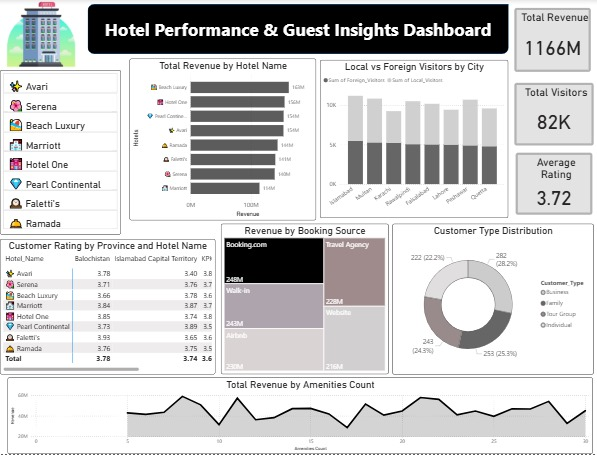

What the dashboard file says about the page in this screenshot:
{"tool":"powerbi","page":{"name":"Page 1","canvas":[1480,1120],"ordinal":0},"visuals":[{"type":"advancedSlicerVisual","fields":{"Values":["Pakistan_Tourism_Hotels.Hotel_Name"]},"box":[0,176.1,297.8,404.3],"z":0},{"type":"card","title":"Total Revenue","fields":{"Values":["Sum(Pakistan_Tourism_Hotels.Total_Revenue)"]},"box":[1265.4,23.1,188.5,157.7],"z":1000},{"type":"card","title":"Average Rating","fields":{"Values":["Avg(Pakistan_Tourism_Hotels.Customer_Rating)"]},"box":[1269.1,377.8,188.9,153.1],"z":2000},{"type":"card","title":"Total Visitors","fields":{"Values":["Pakistan_Tourism_Hotels.Visitors"]},"box":[1265.4,204.9,195.1,154.3],"z":3000},{"type":"shape","box":[215.2,12.1,1036.4,122.7],"z":4000},{"type":"image","box":[0,0,201.5,177.3],"z":5000},{"type":"clusteredBarChart","title":"Total Revenue by Hotel Name","fields":{"Y":["Sum(Pakistan_Tourism_Hotels.Total_Revenue)"],"Category":["Pakistan_Tourism_Hotels.Hotel_Name"]},"box":[319.8,148.1,459.3,397.5],"z":6000},{"type":"columnChart","title":"Local vs Foreign Visitors by City","fields":{"Category":["Pakistan_Tourism_Hotels.City"],"Y":["Sum(Pakistan_Tourism_Hotels.Foreign_Visitors)","Sum(Pakistan_Tourism_Hotels.Local_Visitors)"]},"box":[788.9,150.6,463,388.9],"z":7000},{"type":"donutChart","title":"Customer Type Distribution","fields":{"Category":["Pakistan_Tourism_Hotels.Customer_Type"],"Y":["CountNonNull(Pakistan_Tourism_Hotels.Hotel_ID)"]},"box":[965,554,495,371],"z":8000},{"type":"treemap","title":"Revenue by Booking Source","fields":{"Group":["Pakistan_Tourism_Hotels.Booking_Source"],"Values":["Sum(Pakistan_Tourism_Hotels.Total_Revenue)"]},"box":[543.2,554.3,412.3,370.4],"z":9000},{"type":"pivotTable","title":"Customer Rating by Province and Hotel Name","fields":{"Rows":["Pakistan_Tourism_Hotels.Hotel_Name"],"Columns":["Pakistan_Tourism_Hotels.Province"],"Values":["Avg(Pakistan_Tourism_Hotels.Customer_Rating)"]},"box":[0,591.4,529.6,333.3],"z":10000},{"type":"lineChart","title":"Total Revenue by Amenities Count","fields":{"Category":["Pakistan_Tourism_Hotels.Amenities_Count"],"Y":["Sum(Pakistan_Tourism_Hotels.Total_Revenue)"]},"box":[20,932,1440,188],"z":11000}]}

Visuals, with their boxes in screenshot pixels (x1, y1, x2, y2), scaled from the page's 1480x1120 canvas onto the 597x455 screenshot:
advancedSlicerVisual - Pakistan_Tourism_Hotels.Hotel_Name: l=0, t=72, r=120, b=236
"Total Revenue" card: l=510, t=9, r=586, b=73
"Average Rating" card: l=512, t=153, r=588, b=216
"Total Visitors" card: l=510, t=83, r=589, b=146
shape: l=87, t=5, r=505, b=55
image: l=0, t=0, r=81, b=72
"Total Revenue by Hotel Name" clusteredBarChart: l=129, t=60, r=314, b=222
"Local vs Foreign Visitors by City" columnChart: l=318, t=61, r=505, b=219
"Customer Type Distribution" donutChart: l=389, t=225, r=589, b=376
"Revenue by Booking Source" treemap: l=219, t=225, r=385, b=376
"Customer Rating by Province and Hotel Name" pivotTable: l=0, t=240, r=214, b=376
"Total Revenue by Amenities Count" lineChart: l=8, t=379, r=589, b=454
